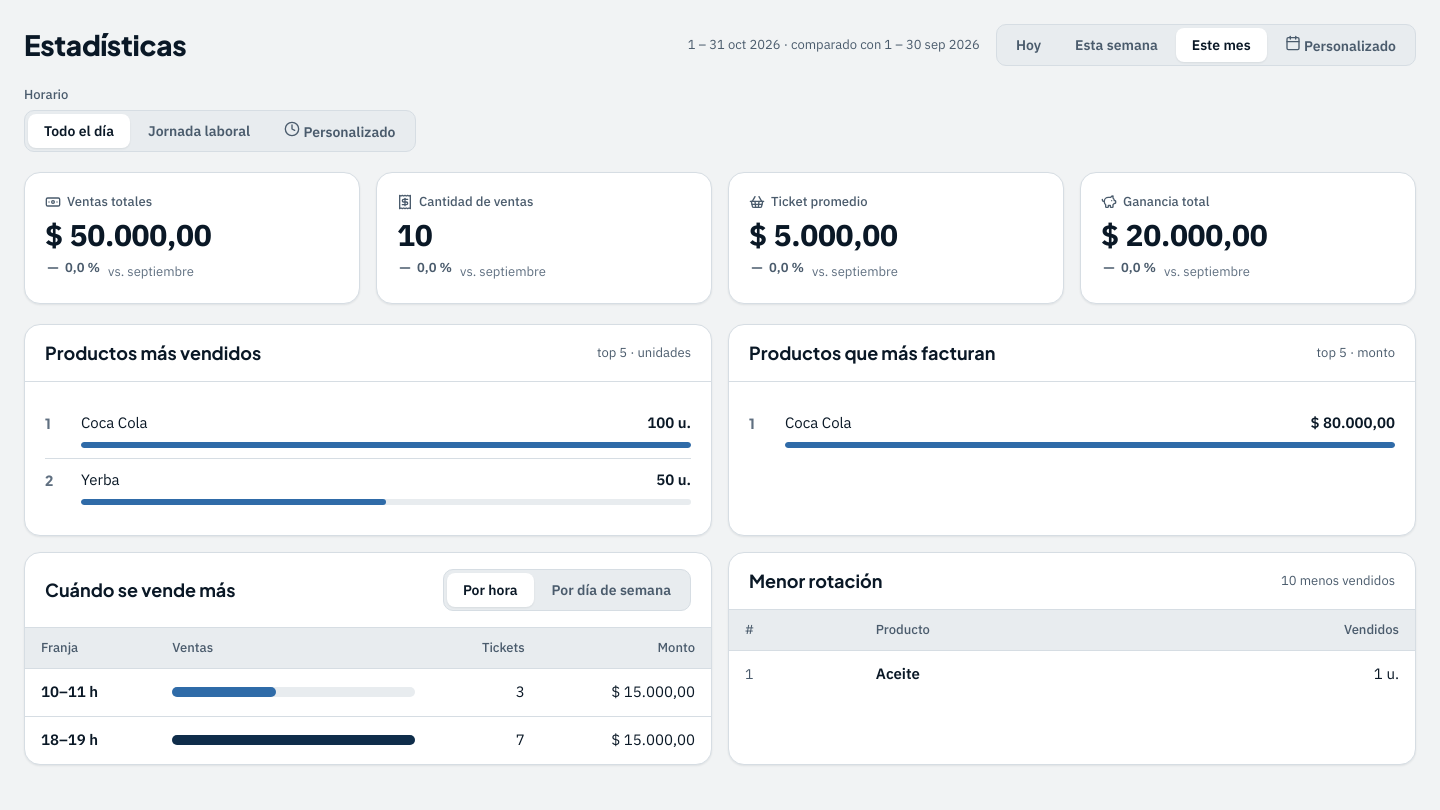
Stats — rankings y tablas › la pestaña "Por día de semana" muestra los días
The width and height of the screenshot is (1440, 810).
Click the tab "Por día de semana" at (611, 590), box [536,573,687,607]
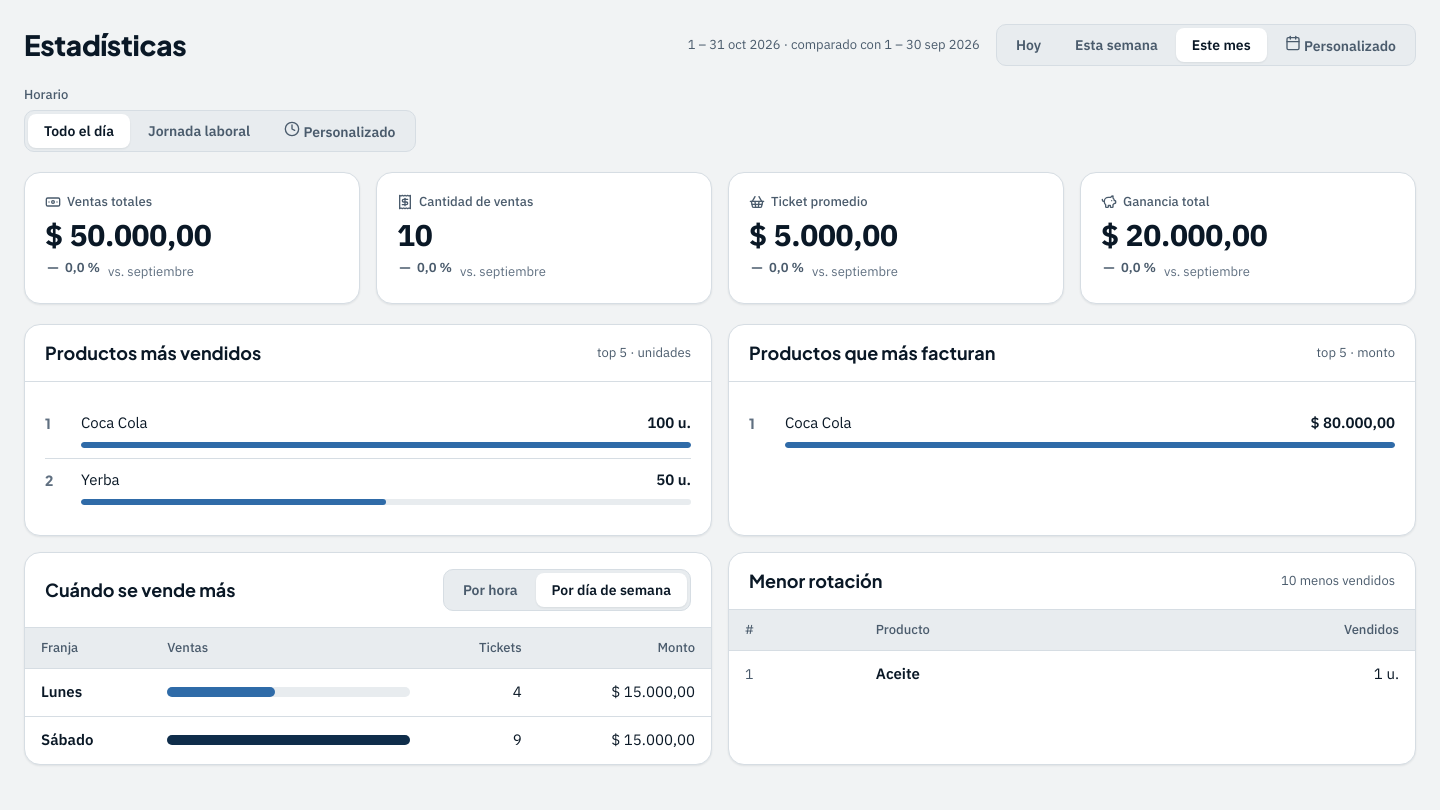
Expected: the text "Lunes" is shown, [25,668,151,716]
Expected: the text "Sábado" is shown, [25,716,151,764]
